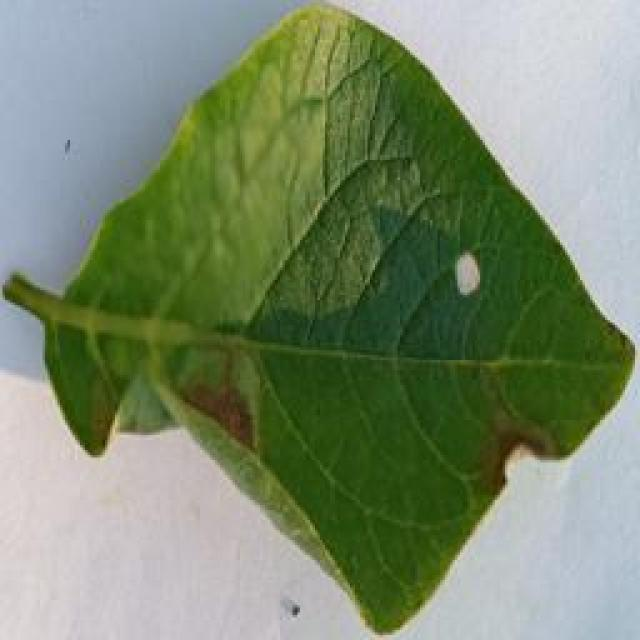Potato_Late_Blight: (8, 6, 623, 632)
